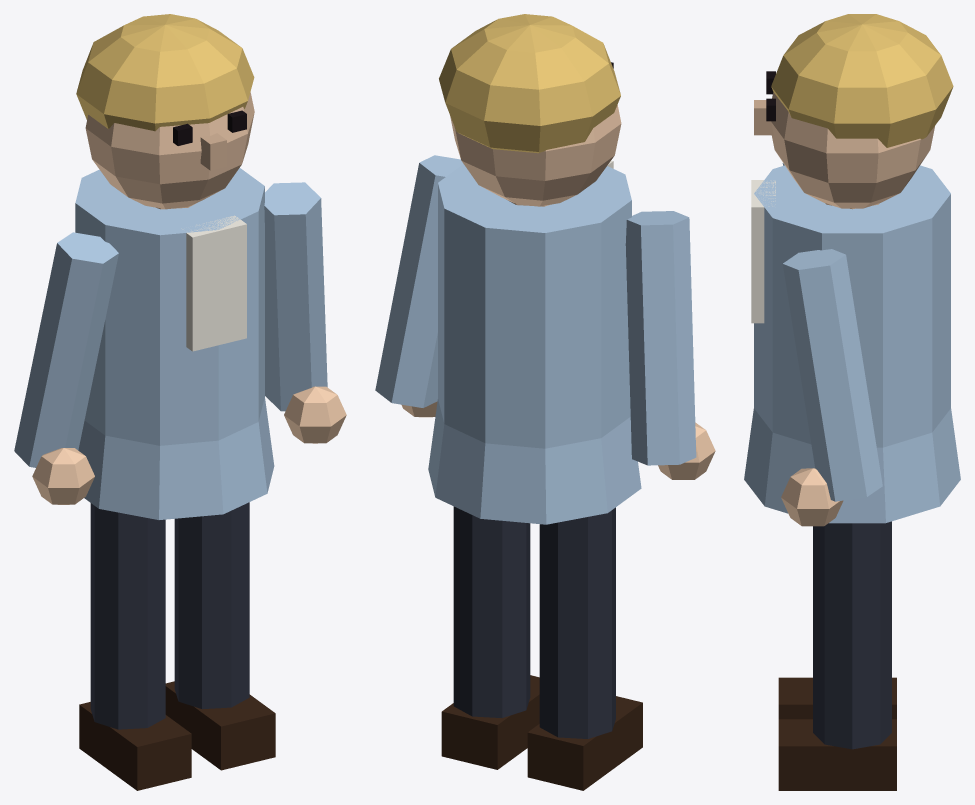
The model's file is postac_nauczyciel.glb.
The picture shows the model from 3 angles, left to right: view 1: azimuth 30°, elevation 25°; view 2: azimuth 150°, elevation 25°; view 3: azimuth 270°, elevation 25°; orthographic projection. The views are drawn at different scales.
Visible parts, largest first — view 1: cialo, noga_l, noga_p, reka_l, reka_p; view 2: cialo, noga_l, noga_p, reka_l, reka_p; view 3: cialo, noga_p, reka_p, noga_l.
Part boxes in pixels (x1,y1,x2,y2): cialo: [75, 14, 274, 519]; noga_l: [79, 503, 191, 790]; noga_p: [165, 502, 275, 770]; reka_l: [14, 232, 118, 504]; reka_p: [264, 182, 346, 443]; cialo: [428, 14, 641, 524]; noga_l: [527, 507, 642, 790]; noga_p: [441, 506, 539, 769]; reka_l: [625, 211, 715, 479]; reka_p: [375, 155, 463, 417]; cialo: [744, 14, 960, 523]; noga_p: [778, 521, 896, 790]; reka_p: [781, 249, 882, 526]; noga_l: [778, 677, 896, 719].
Size of the model in its own units: 0.7126 by 1.64 by 0.44.
